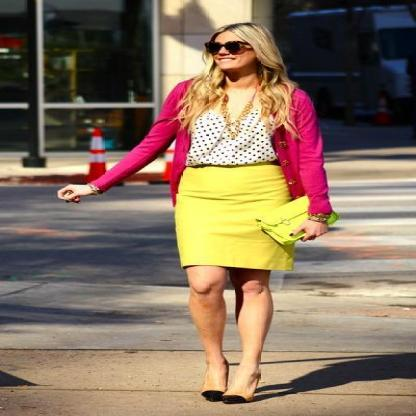bag: (253, 196, 312, 240)
jacket: (87, 79, 341, 231)
shirt: (186, 102, 276, 165)
shoe: (202, 390, 236, 404)
skirt: (175, 162, 321, 270)
sunglass: (205, 32, 254, 55)
